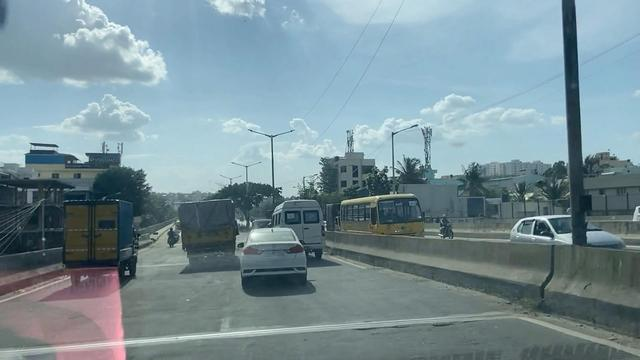HMV: (70, 197, 133, 284), (180, 204, 237, 262)
LMV: (240, 227, 308, 286)
UnsurfacedRoad: (5, 297, 504, 360)
